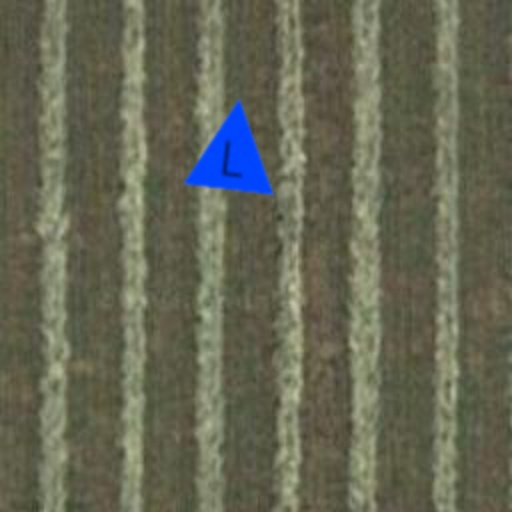triangle: (182, 92, 286, 196)
